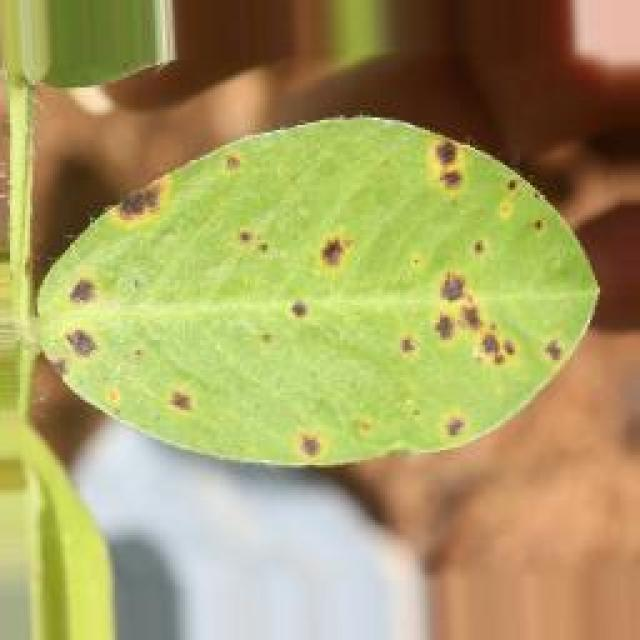Yellowish: (0, 115, 607, 481)
